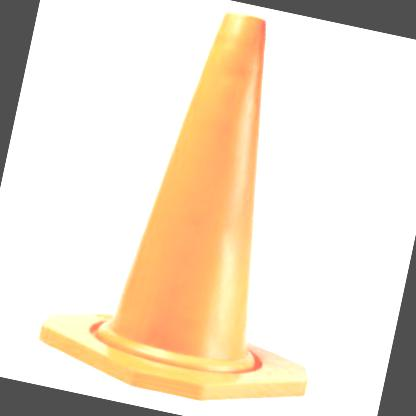cone: (29, 0, 382, 415)
